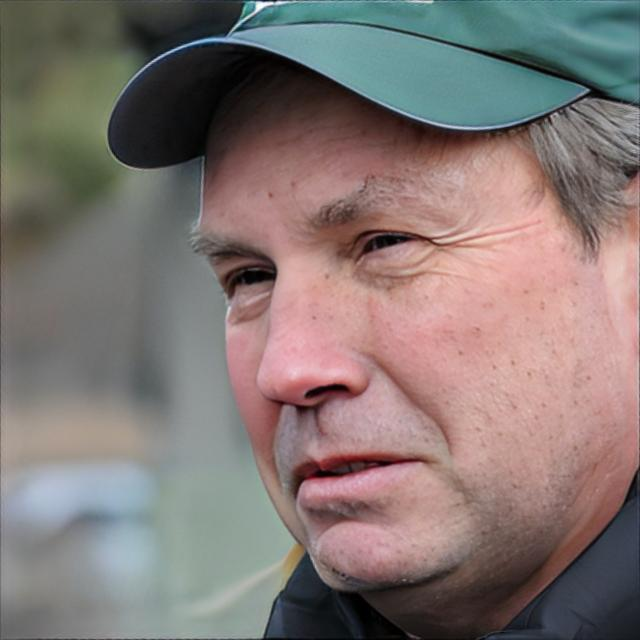disgust: (183, 54, 640, 595)
